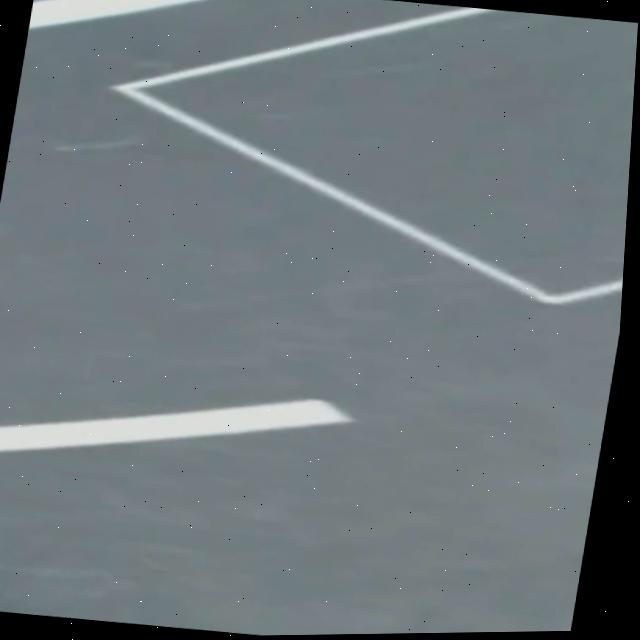center: (0, 398, 351, 450)
left: (27, 0, 195, 27)
